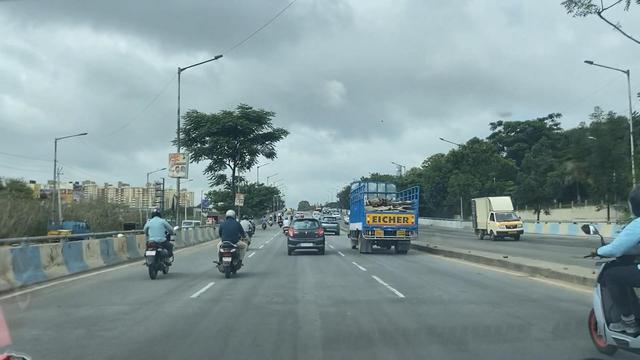HMV: (360, 183, 415, 248)
LMV: (217, 206, 244, 273), (146, 209, 168, 275), (288, 218, 323, 255)
